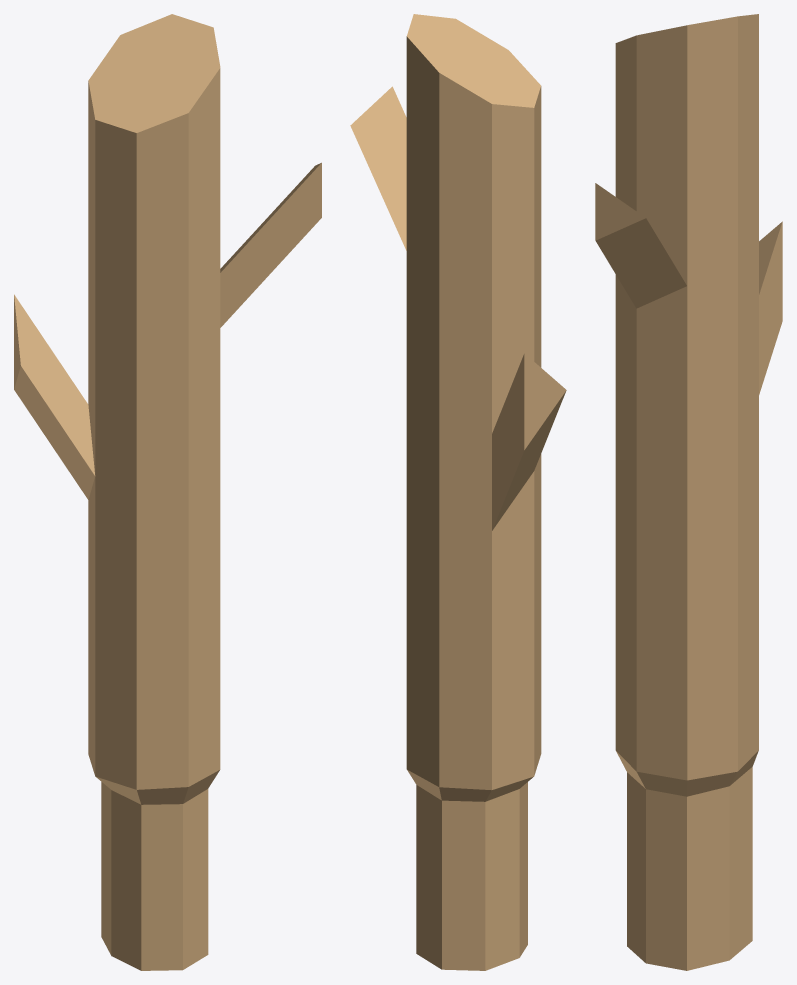
File: wooden_club.fbx
The picture shows the model from 3 angles, left to right: view 1: azimuth 30°, elevation 25°; view 2: azimuth 150°, elevation 25°; view 3: azimuth 270°, elevation 25°; orthographic projection. The views are drawn at different scales.
Visible parts, largest first — view 1: Cylinder; view 2: Cylinder; view 3: Cylinder.
Part boxes in pixels (left/top/right/bottom): Cylinder: left=14, top=14, right=321, bottom=970; Cylinder: left=350, top=14, right=566, bottom=970; Cylinder: left=595, top=14, right=782, bottom=970.
Size of the model in its own units: 214 by 732 by 130.
